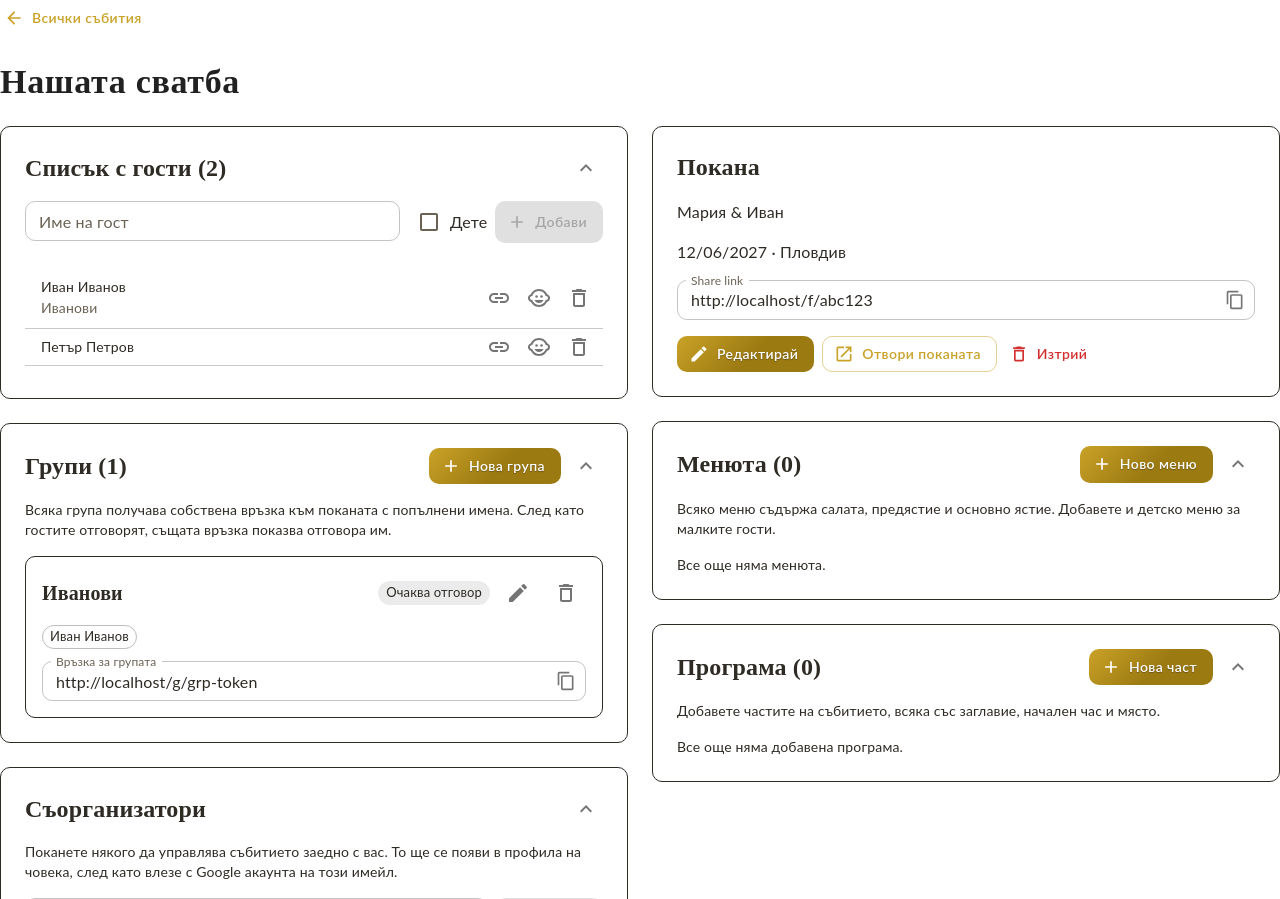
Scenario: EventPage › deletes the invitation after confirmation
The width and height of the screenshot is (1280, 899).
Click the button "Изтрий". click: (1050, 354)
box: [1005, 336, 1095, 372]
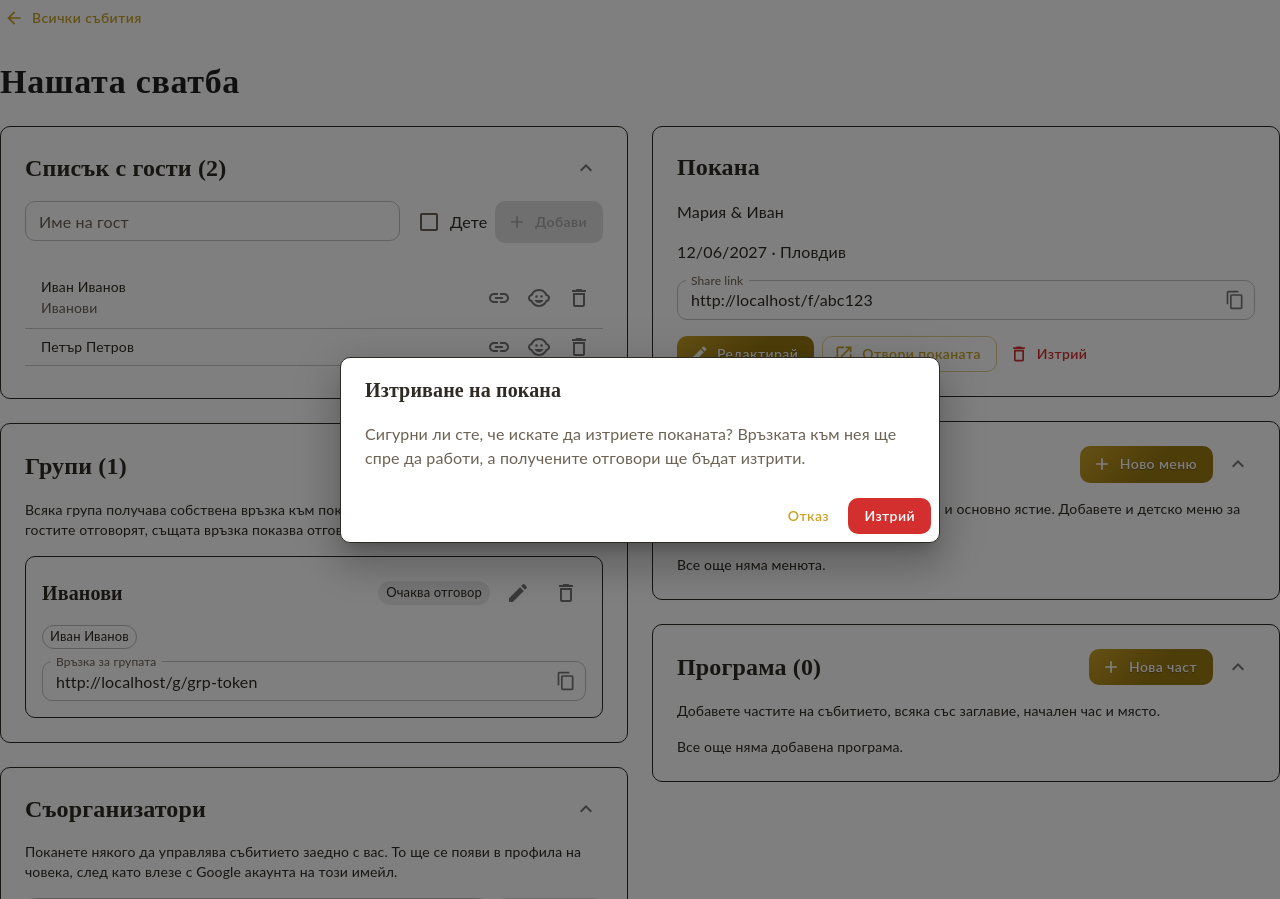
Click the button "Изтрий". click: (890, 516)
box: [848, 498, 931, 534]
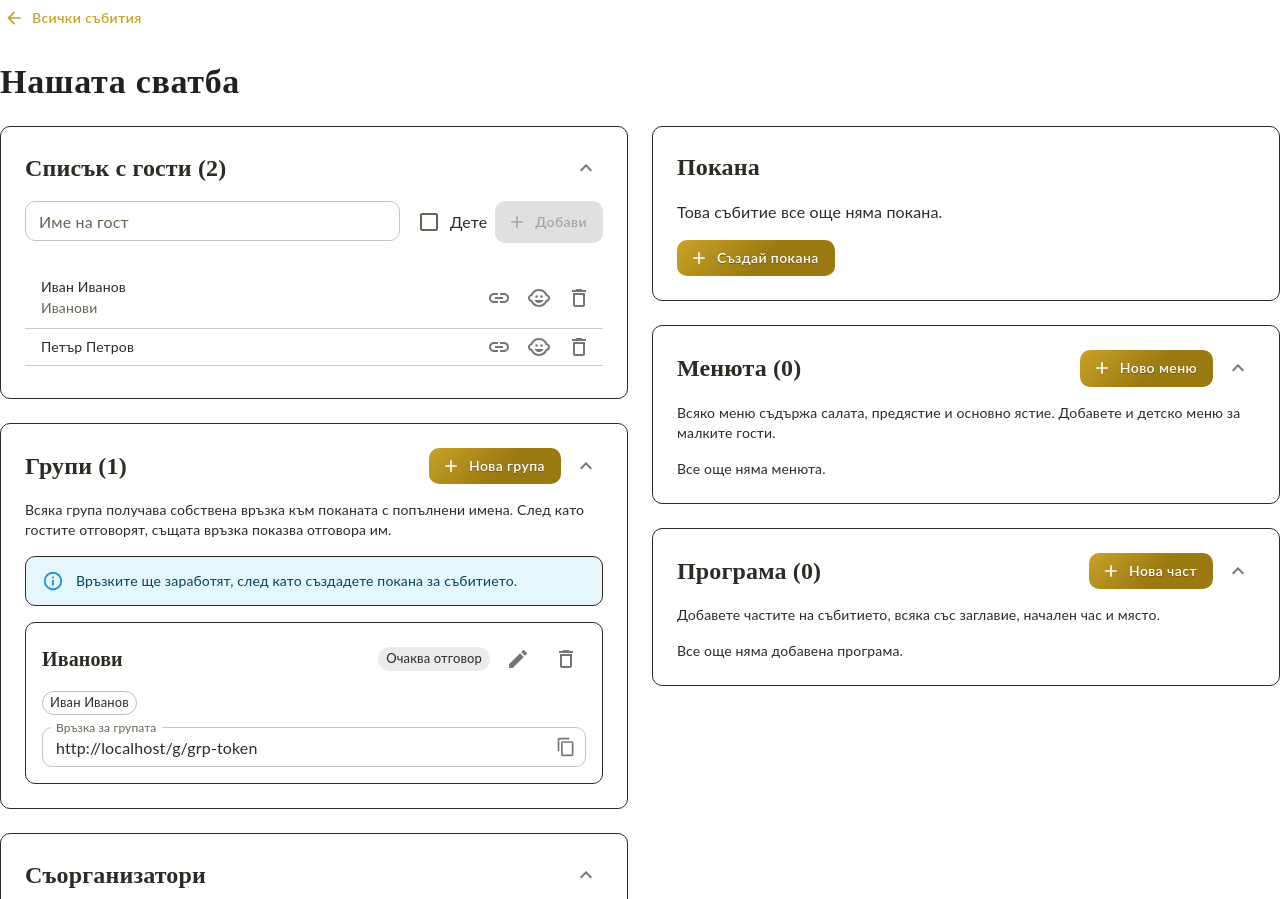
Now the text "Това събитие все още няма покана." is shown, box [677, 202, 942, 220]
